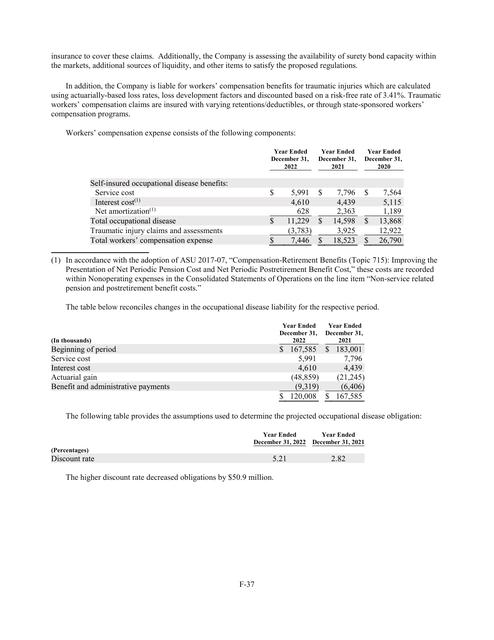box: (88, 147, 408, 248), (48, 322, 367, 405), (50, 430, 365, 466)
